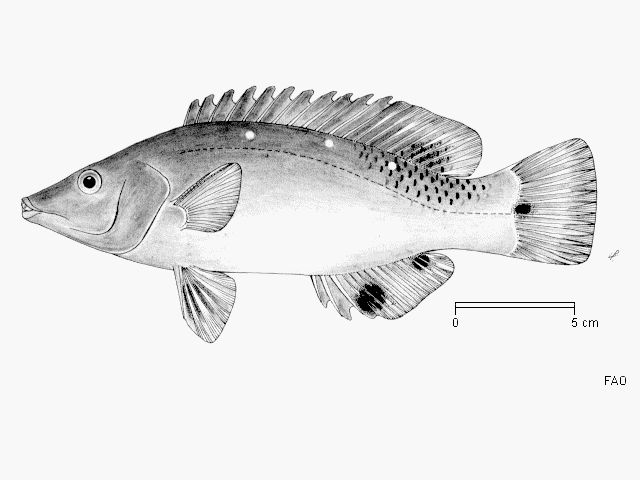fish: (20, 87, 598, 345)
